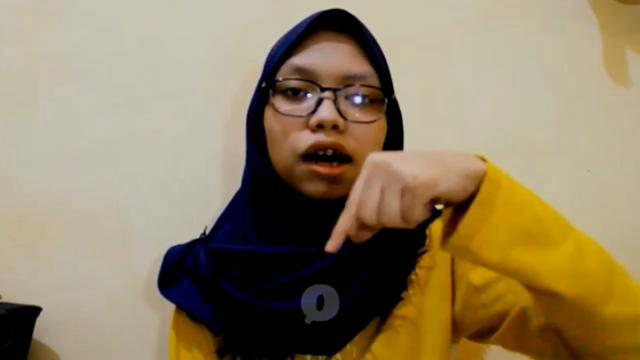Q: (317, 146, 473, 260)
